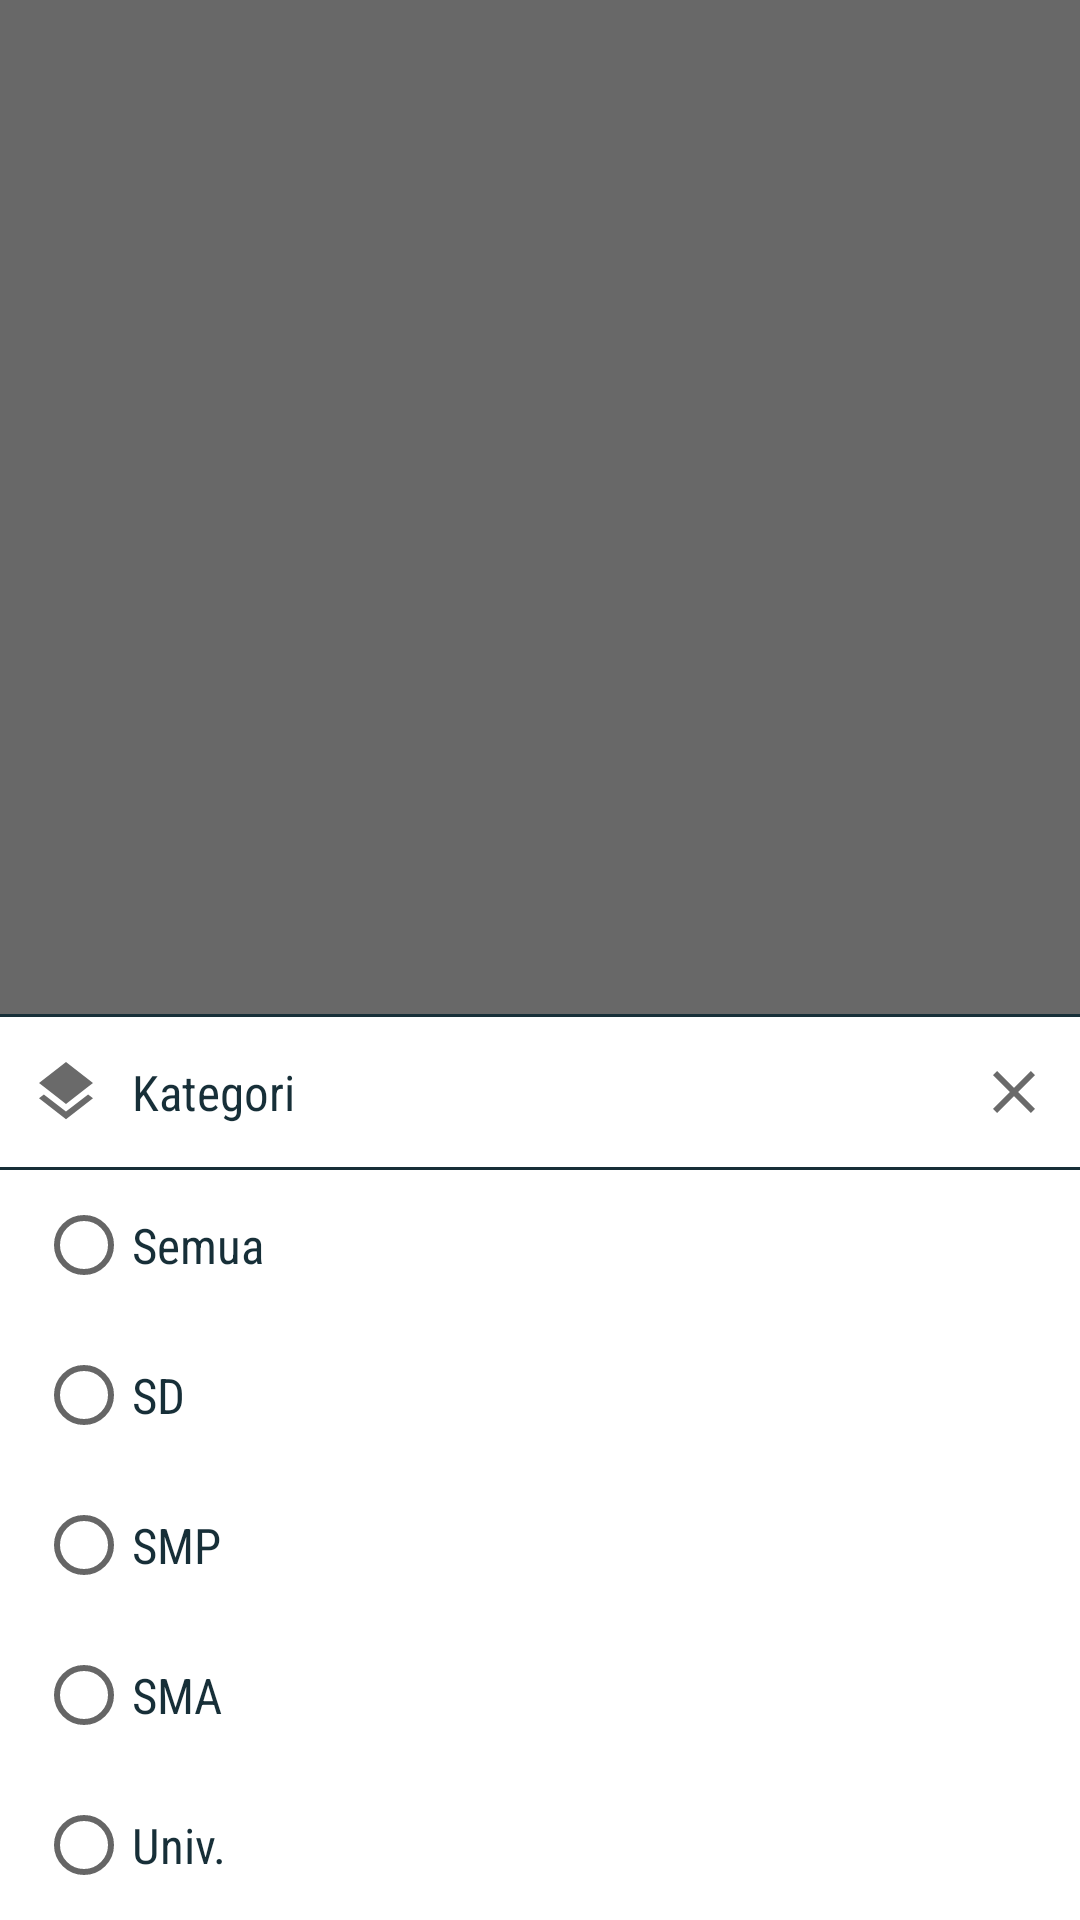

Locate icon controls on the screen. Image size 1080 x 1920, boxes as detection(x1, y1, x2, y2).
close: detection(993, 1071, 1035, 1113)
